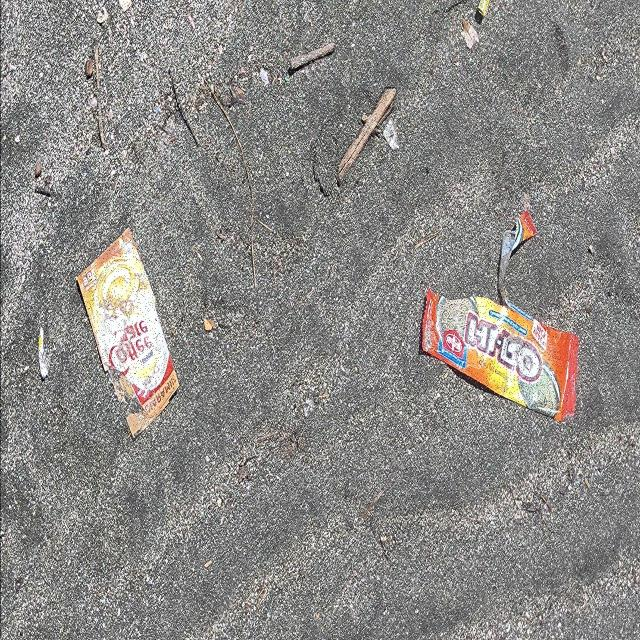plastic_waste: (422, 212, 579, 424), (76, 226, 181, 445)
